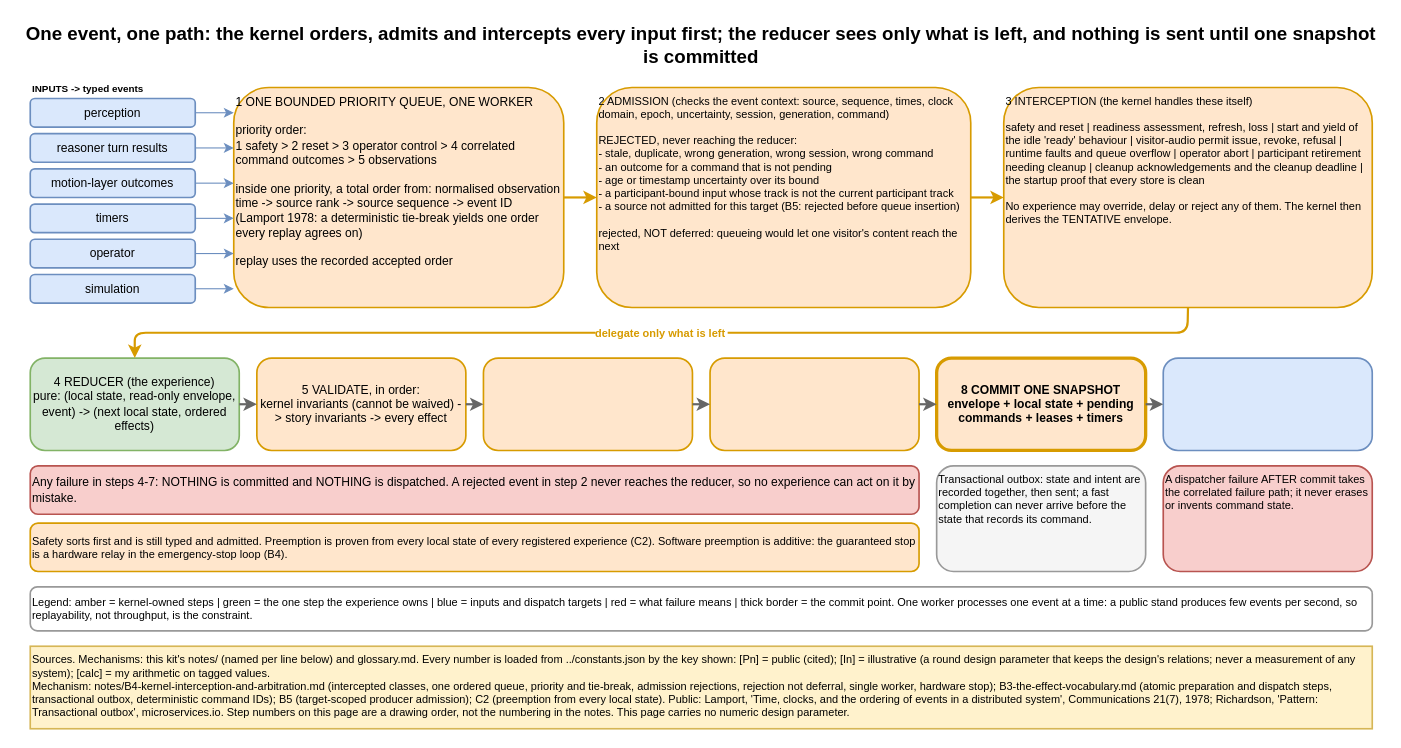
Image size: 1401x748. Some labels were removed from this diagram. The shapes that lost their labels are listed below. From the top down, each one's centre as x and y in pixels, then its label:
At (x=587, y=404): "6 DERIVE COMMAND IDs deterministically, so a re-dispatch is idempotent".
At (x=814, y=404): "7 MATERIALISE commands and verify the tentative snapshot".
At (x=1267, y=404): "9 DISPATCH in effect order, through the catalog to the per-target adapters".
